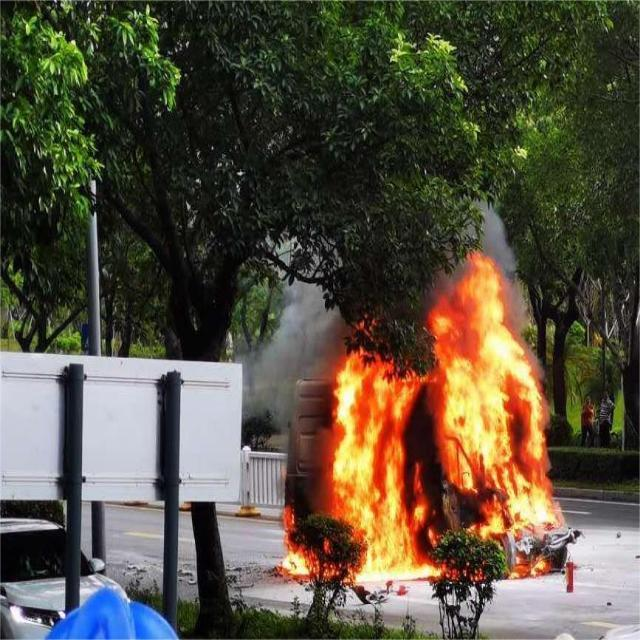Fire: (428, 256, 553, 528), (328, 353, 428, 520), (354, 522, 436, 580), (280, 539, 308, 578)
